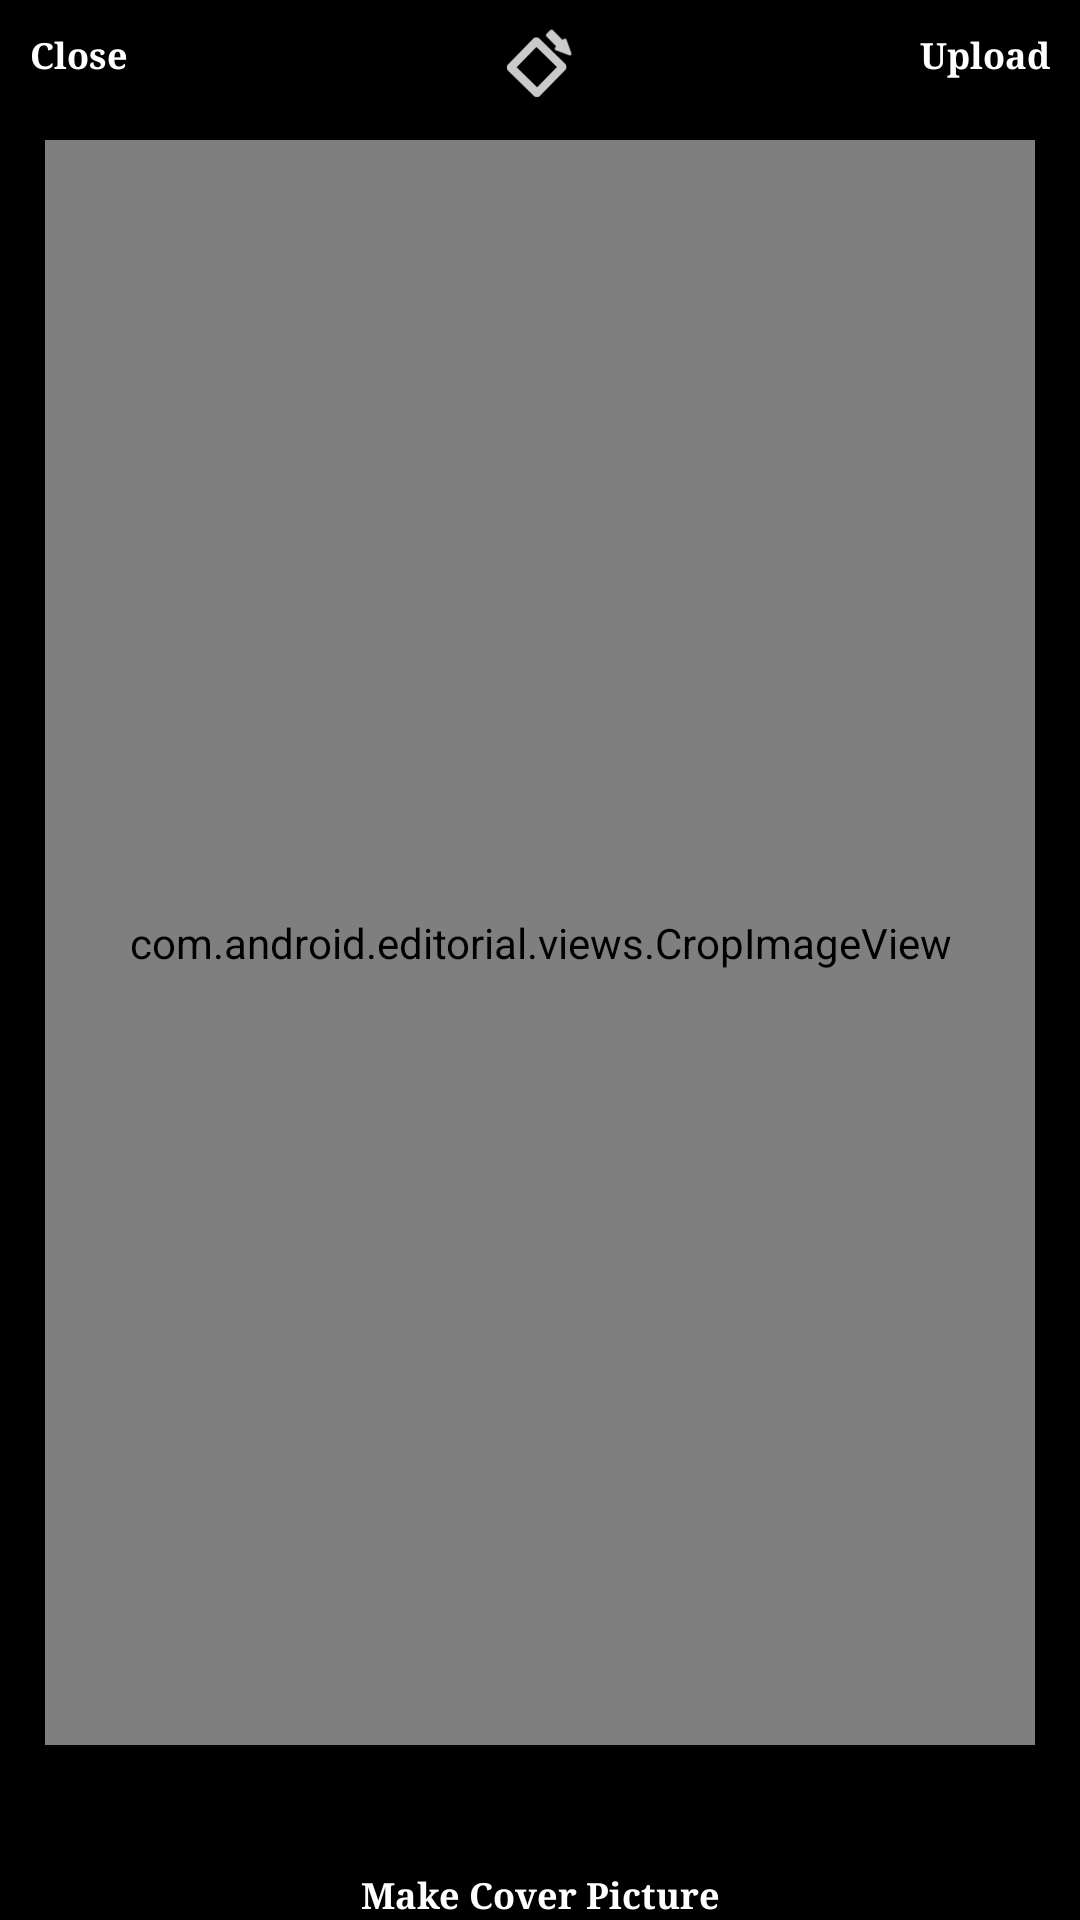

Screen size 1080 x 1920. Icon name, then its box in pixels as (x1, y1, x2, y2):
rotate clockwise: (507, 29, 572, 97)
